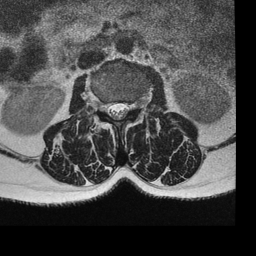CCS_normal: (114, 91, 121, 127)
LFS_normal: (128, 93, 136, 119)
LLS_normal: (121, 95, 128, 125)
RFS_normal: (97, 90, 106, 118)
RLS_normal: (106, 93, 115, 123)
